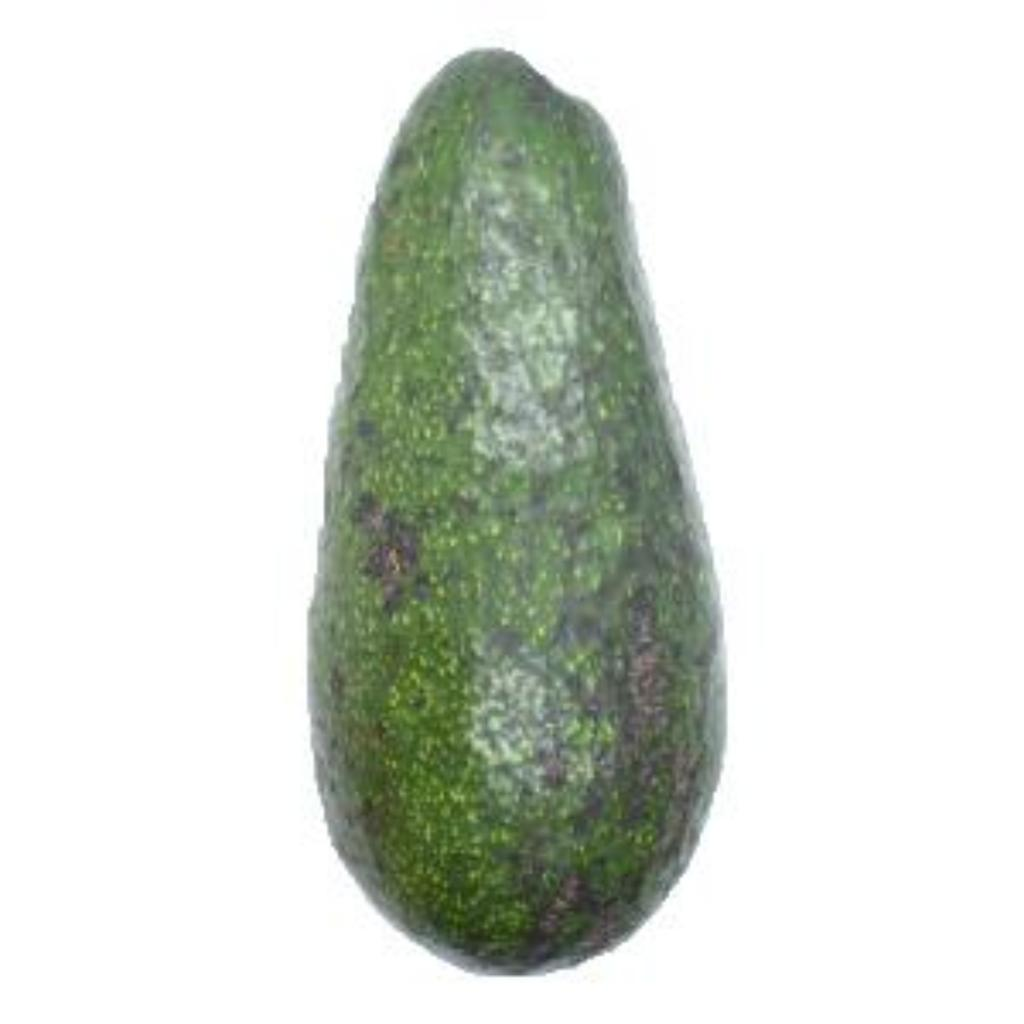cercospora: (266, 39, 751, 985)
